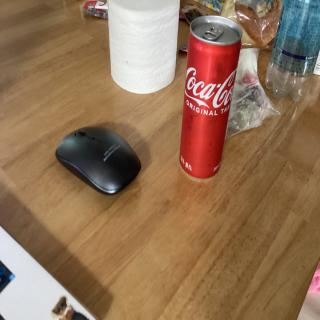cocacola: (176, 10, 244, 183)
